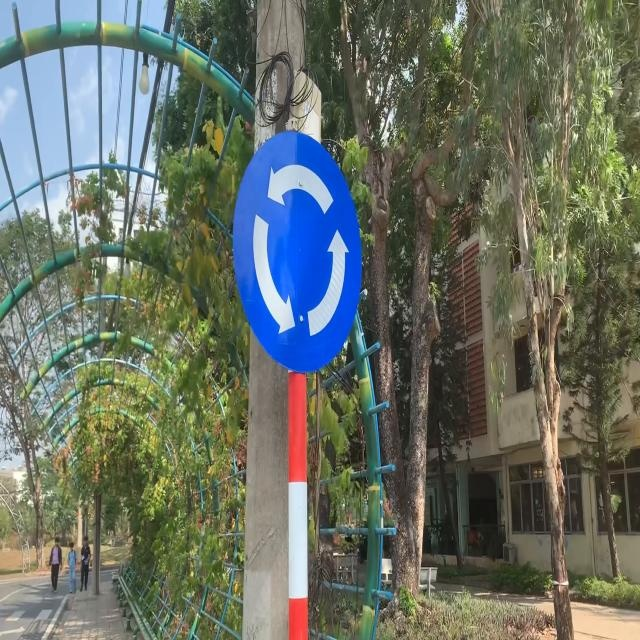bien_hieu_lenh: (233, 130, 364, 375)
